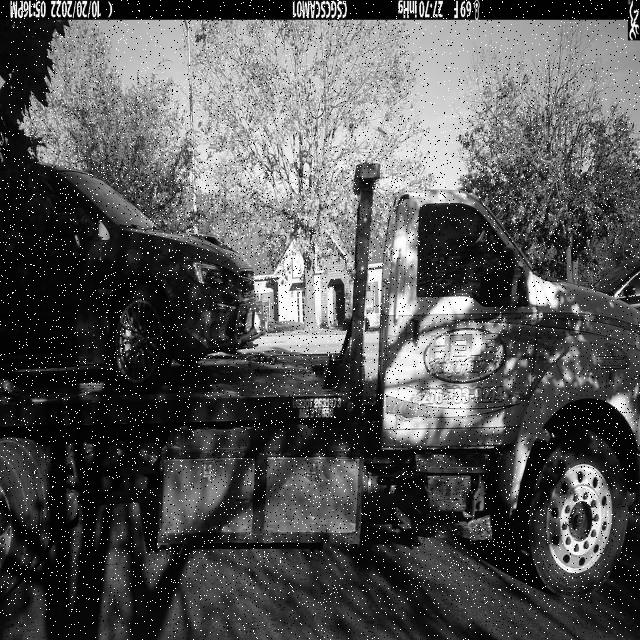Tow Truck: (0, 161, 640, 604)
